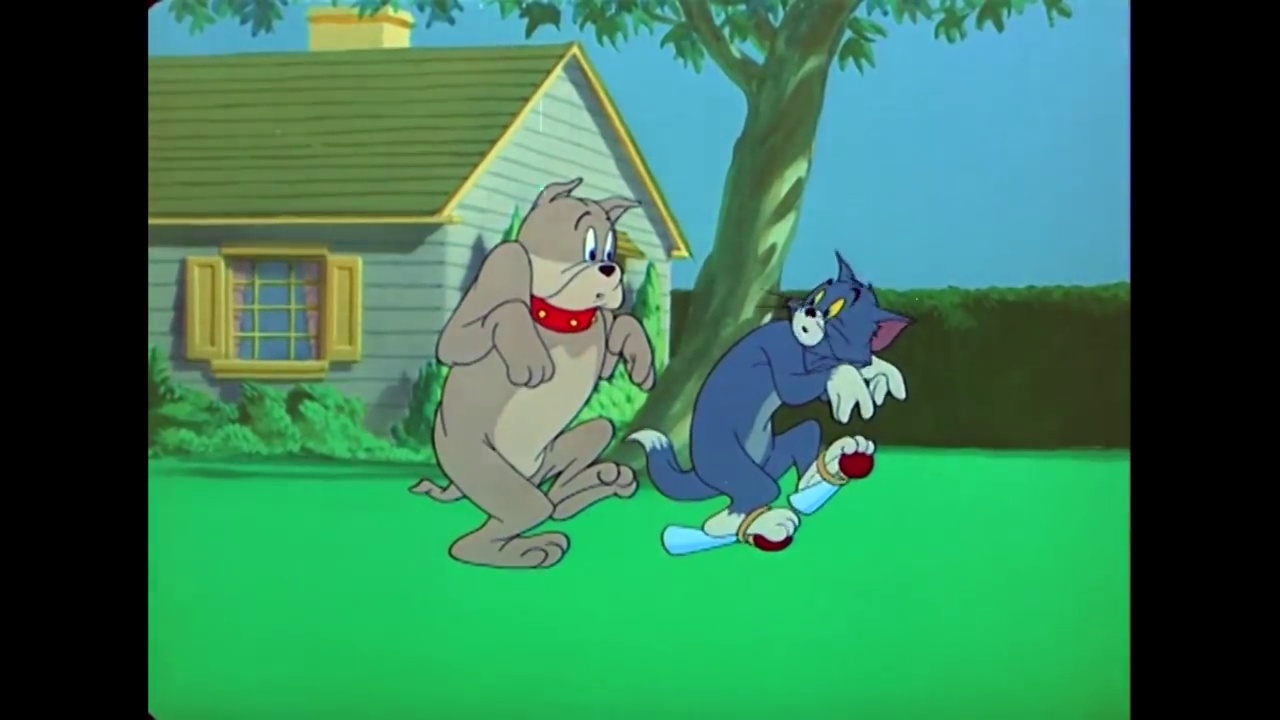spike: (514, 176, 647, 337)
tom: (777, 251, 913, 378)
